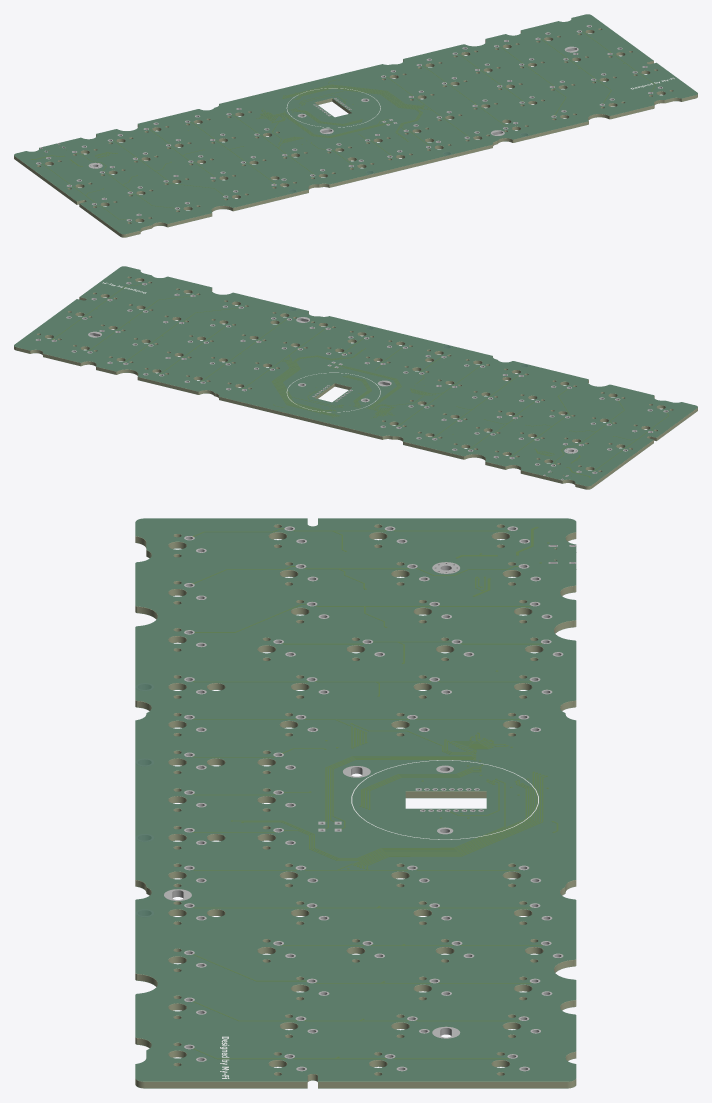
3 renders of one model, top to bottom at view 1: azimuth 30°, elevation 25°; view 2: azimuth 150°, elevation 25°; view 3: azimuth 270°, elevation 25°, orthographic. The views are drawn at different scales.
Visible parts, largest first — view 1: =>[0:1:1:7], =>[0:1:1:9], =>[0:1:1:3]; view 2: =>[0:1:1:7], =>[0:1:1:9], =>[0:1:1:3]; view 3: =>[0:1:1:7], =>[0:1:1:9], =>[0:1:1:3], =>[0:1:1:2], =>[0:1:1:8].
Boxes of the visible parts, <box> form: =>[0:1:1:7]: <box>14,14,697,234</box>; =>[0:1:1:9]: <box>14,15,697,237</box>; =>[0:1:1:3]: <box>36,25,662,221</box>; =>[0:1:1:7]: <box>14,266,697,486</box>; =>[0:1:1:9]: <box>14,267,697,489</box>; =>[0:1:1:3]: <box>36,282,668,480</box>; =>[0:1:1:7]: <box>135,518,576,1081</box>; =>[0:1:1:9]: <box>135,519,576,1088</box>; =>[0:1:1:3]: <box>136,526,576,1071</box>; =>[0:1:1:2]: <box>193,528,557,1058</box>; =>[0:1:1:8]: <box>136,539,575,1088</box>.
Bounding box in the file's own units: 0.2847 × 0.00166 × 0.0942.
